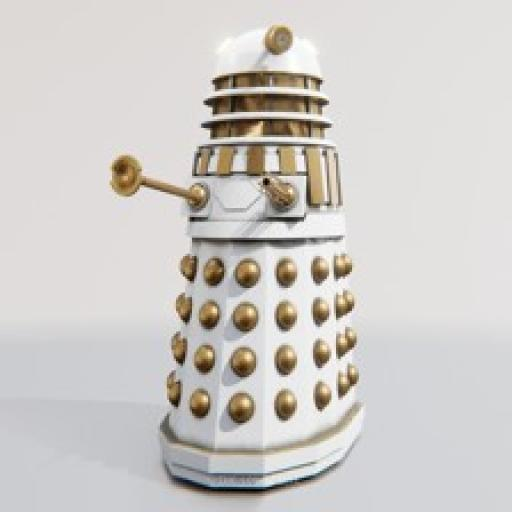dalek: (97, 22, 377, 494)
